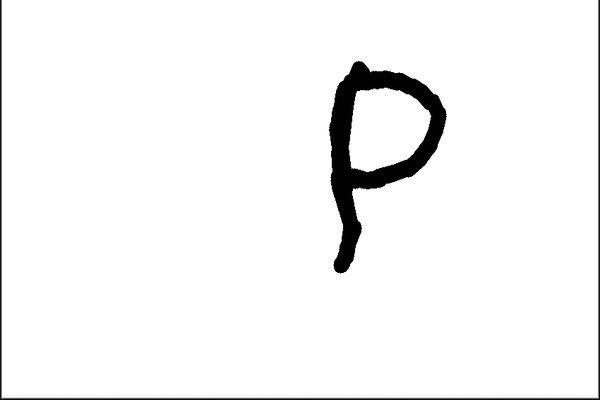P: (310, 52, 463, 279)
